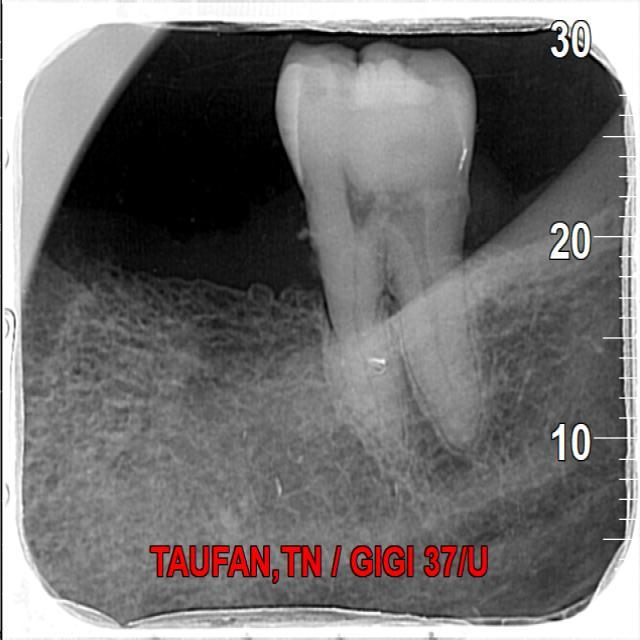individual-tooth-8tto: (275, 38, 487, 476)
